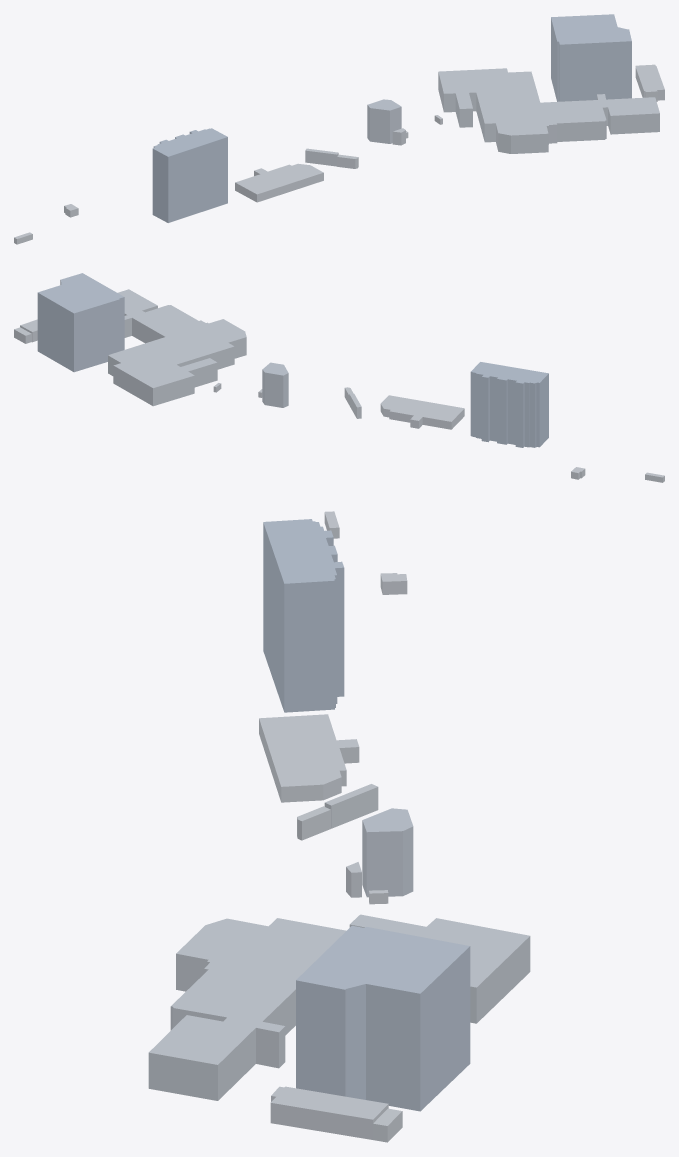
3 views of the same model, one above another, from view 1: azimuth 30°, elevation 25°; view 2: azimuth 150°, elevation 25°; view 3: azimuth 270°, elevation 25° (orthographic). The views are drawn at different scales.
Size of the model in its own units: 372 by 36 by 96.65.
